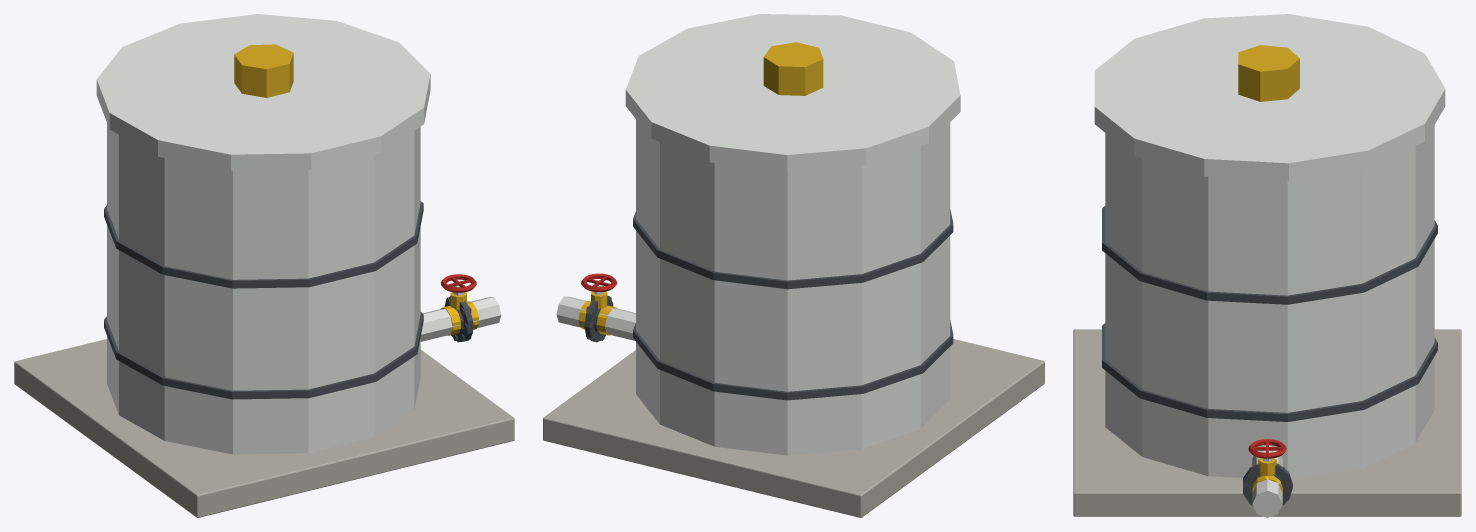
Rendered from prp_water_tank.glb.
The picture shows the model from 3 angles, left to right: view 1: azimuth 30°, elevation 25°; view 2: azimuth 150°, elevation 25°; view 3: azimuth 270°, elevation 25°; orthographic projection. The views are drawn at different scales.
Parts seen in each view (by area): view 1: prp_water_tank; view 2: prp_water_tank; view 3: prp_water_tank.
Part boxes in pixels (left/top/right/bottom): prp_water_tank: left=14, top=14, right=514, bottom=517; prp_water_tank: left=543, top=14, right=1044, bottom=517; prp_water_tank: left=1073, top=14, right=1461, bottom=517.
Bounding box in the file's own units: 4.4 × 3.86 × 3.6.
